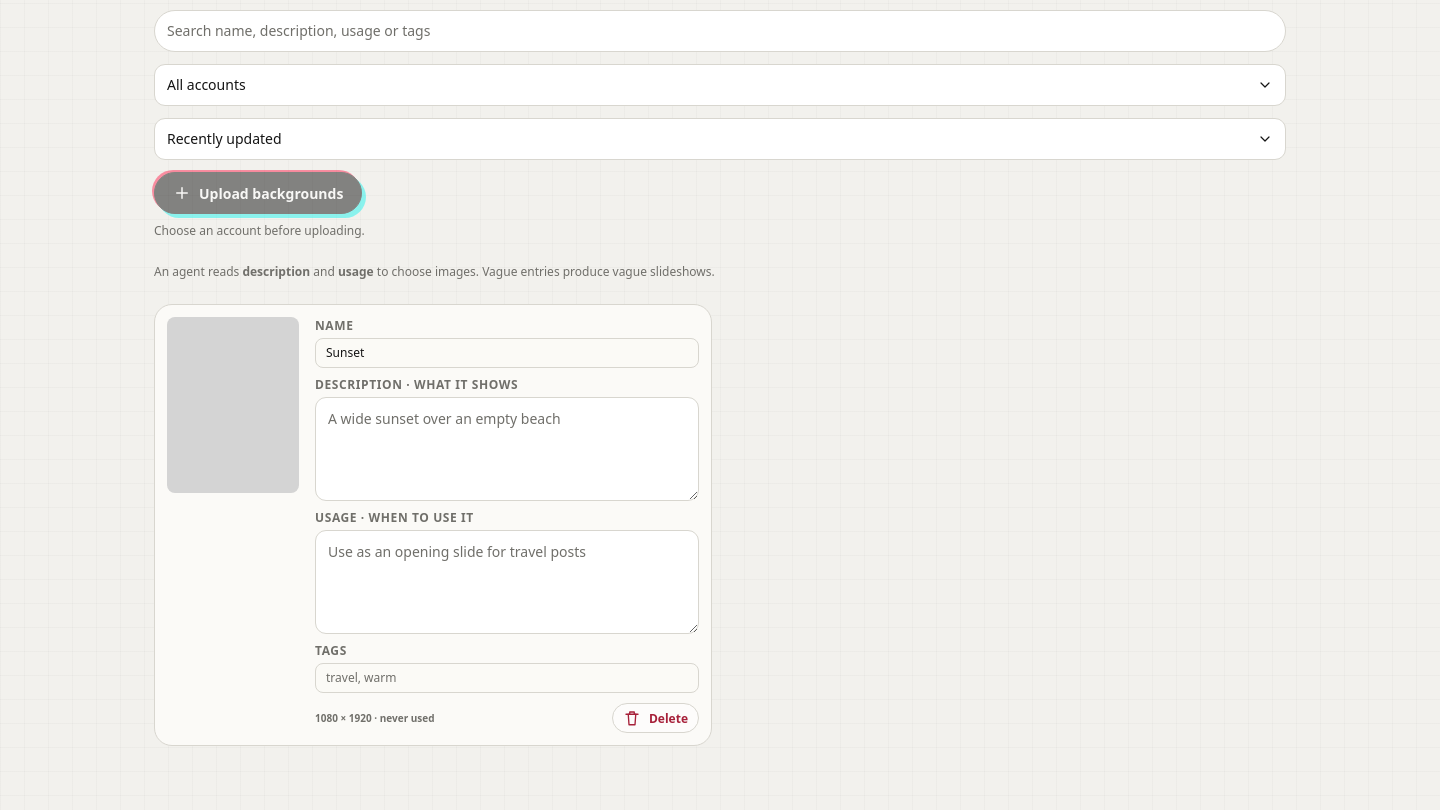
warns which slideshows break before deleting an item in use
The width and height of the screenshot is (1440, 810).
(page scrolled)
Click the button with aria-label "Delete Sunset": (656, 718) [612,703,699,733]
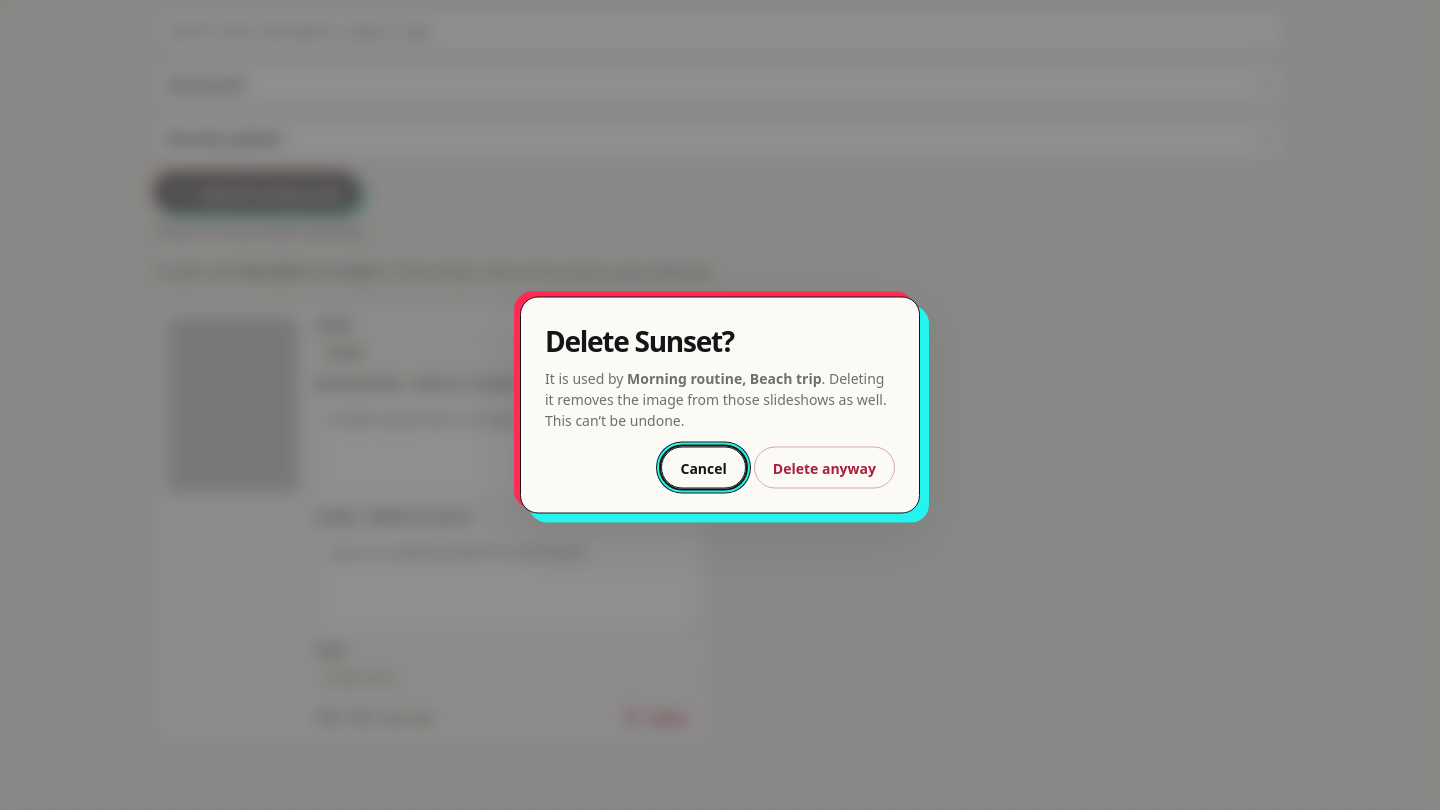
Result: the text "Morning routine, Beach trip" is shown at [627,368,822,388]
